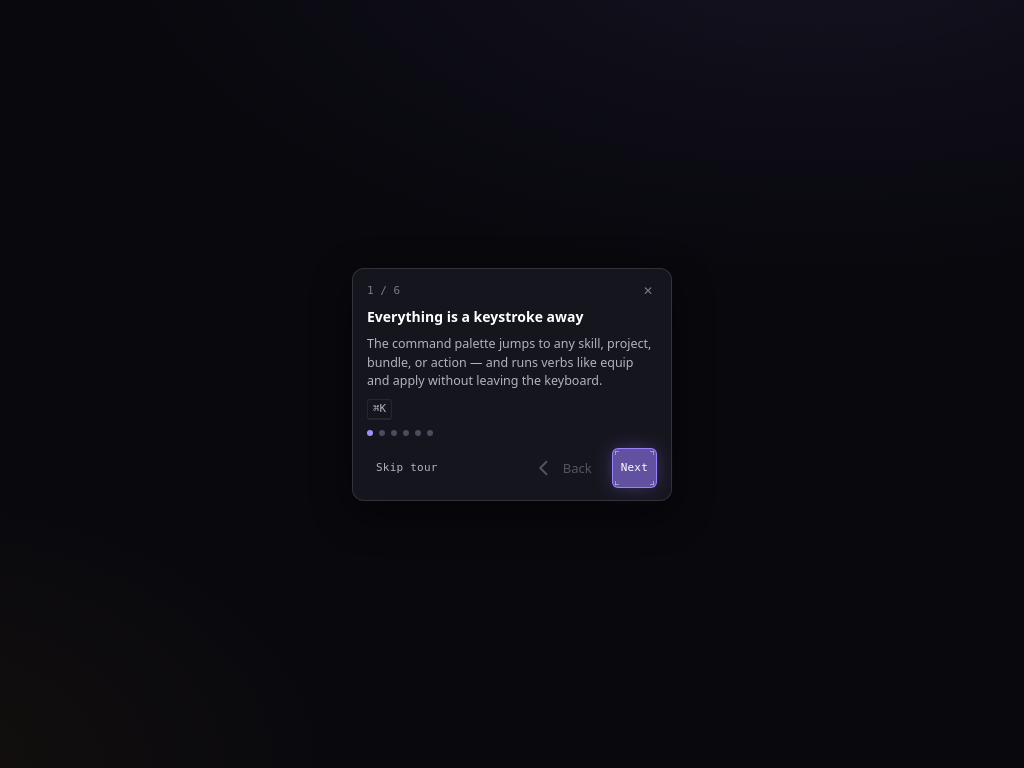
it: TipsTour component › navigates forward/back with Next / Back buttons
The width and height of the screenshot is (1024, 768).
Expected: the button "Back" is disabled, 520,448 -> 606,488
Click the button "Next" at (634, 468), box 612,448 -> 657,488
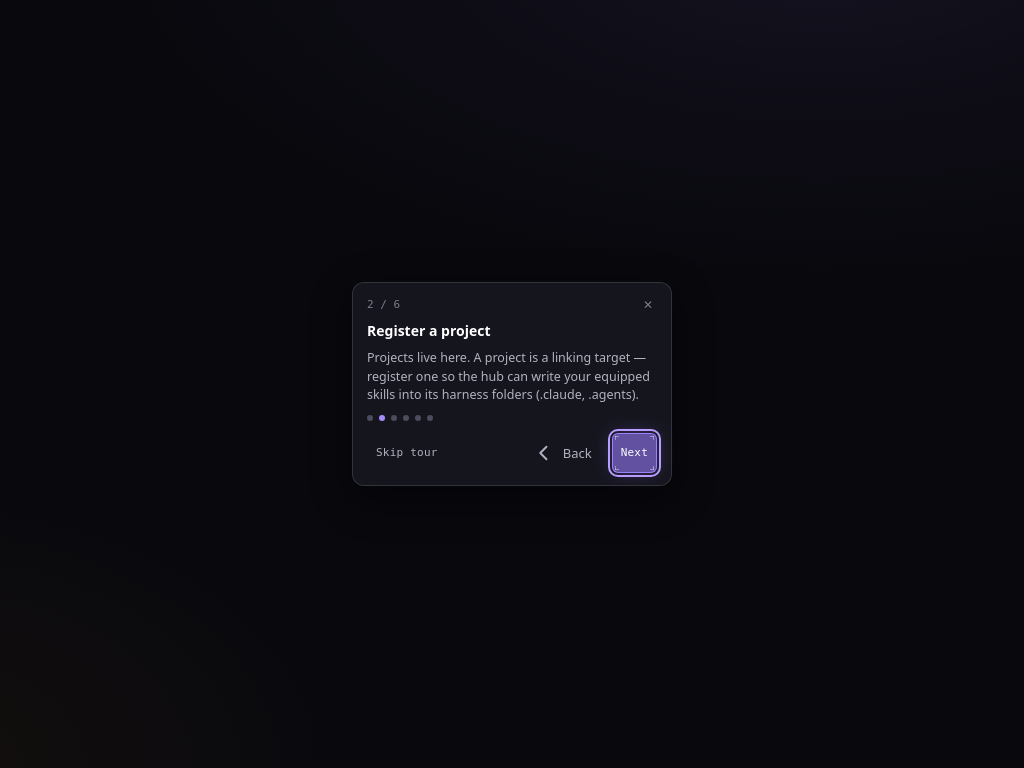
Expected: the heading "Register a project" is shown, 367,320 -> 490,340
Click the button "Back" at (563, 453), box 520,433 -> 606,473
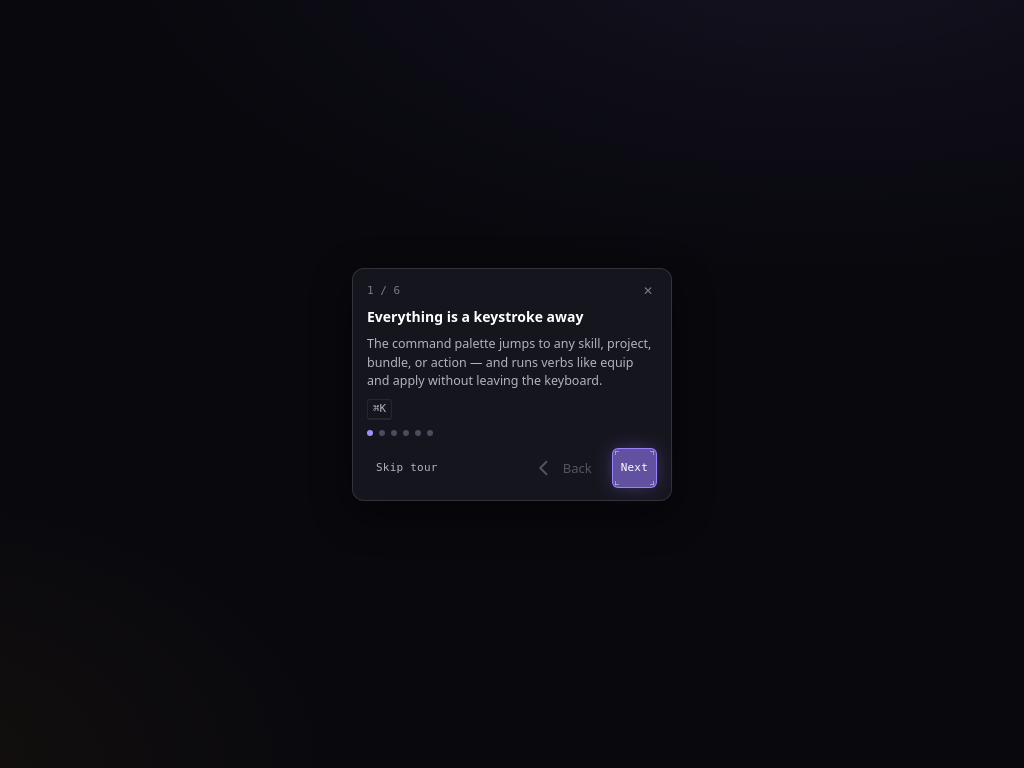
Expected: the heading "Everything is a keystroke away" is shown, 367,306 -> 584,326
